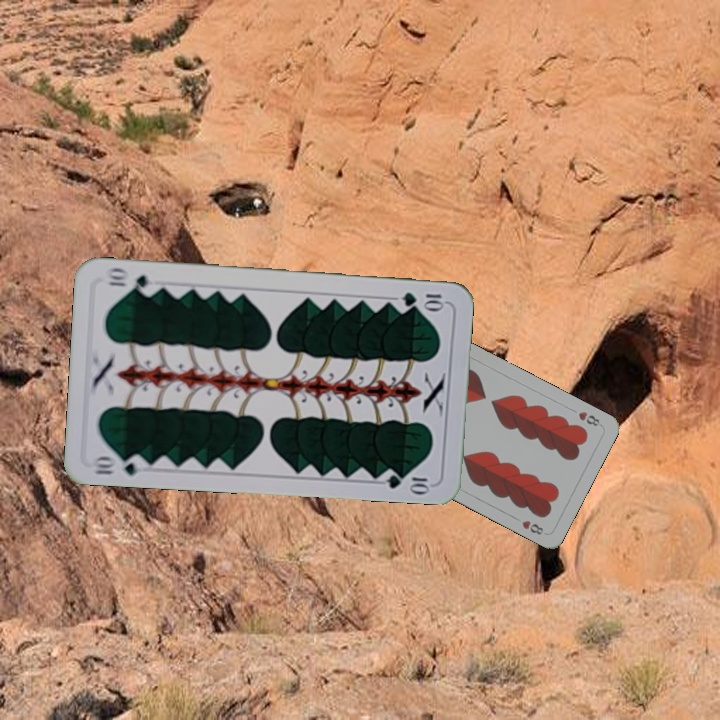G10: (88, 451, 148, 478), (398, 288, 446, 310)
H8: (574, 407, 605, 429)
